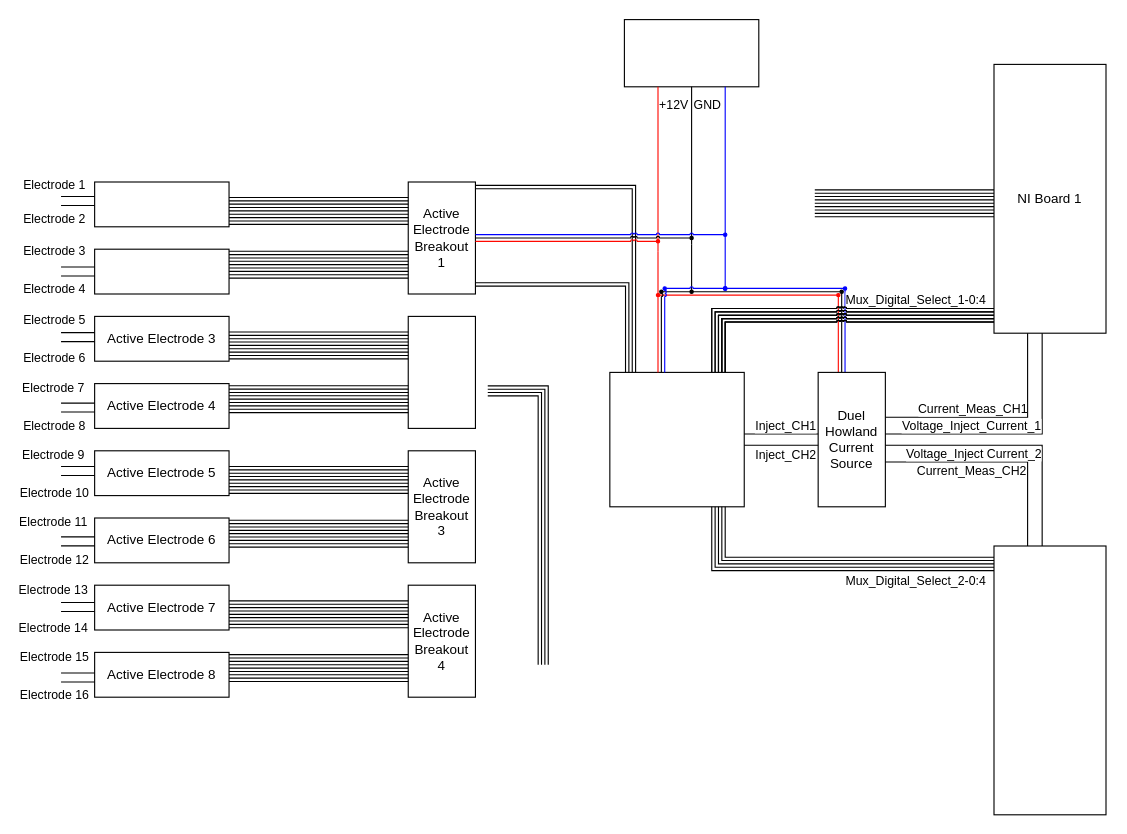
This 1127x834 diagram has some shape labels left out. Here are the shapes that lost their labels. From the top down, the centre of each, then its label:
point (691, 52): Power Supply
point (161, 204): Active Electrode 1
point (161, 271): Active Electrode 2
point (441, 371): Active Electrode Breakout 2
point (676, 439): Current Multiplexer
point (1049, 680): NI Board 2
